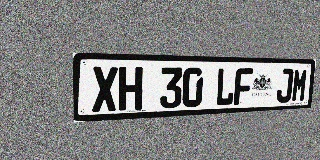0: (182, 67, 203, 108)
3: (160, 67, 183, 109)
F: (233, 68, 253, 105)
H: (118, 67, 143, 111)
J: (276, 68, 294, 103)
L: (215, 68, 235, 106)
M: (291, 69, 308, 102)
X: (92, 66, 118, 112)
